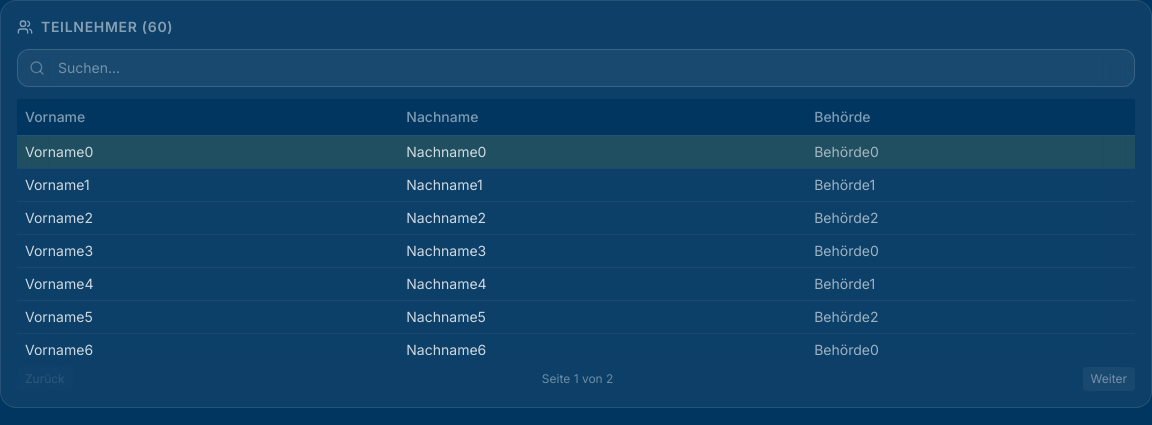
Test: ParticipantTable › filtert nach Suchbegriff
The image size is (1152, 425).
Type "Vorname5" into the field with placeholder "Suchen...".
click(576, 68); type("Vorname5")  # box [17,49,1135,87]
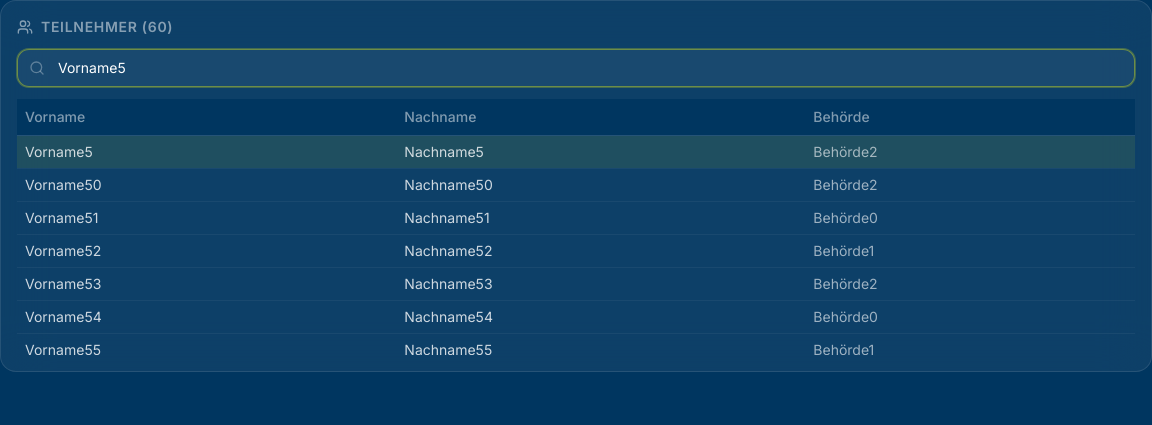
Expected: the text "Vorname5" is shown, [17,136,396,168]
